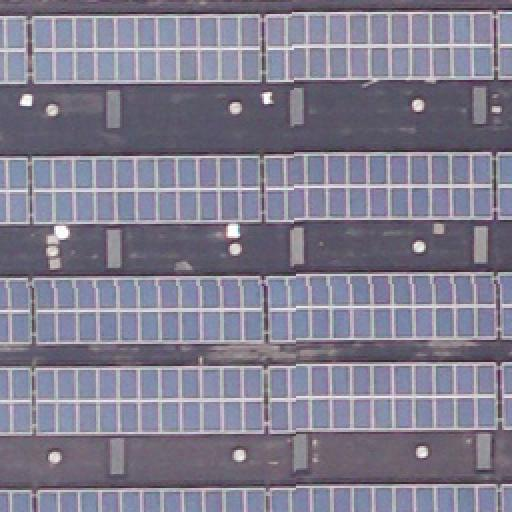solar-panel: (32, 273, 264, 343), (33, 365, 263, 435), (265, 273, 495, 343), (265, 13, 495, 83), (269, 364, 499, 432), (33, 156, 263, 224), (264, 156, 492, 224), (32, 16, 260, 84), (270, 484, 498, 512), (37, 488, 267, 512), (0, 368, 32, 436), (0, 279, 32, 345), (0, 18, 26, 86), (0, 159, 26, 225), (496, 156, 512, 220), (497, 270, 511, 338), (497, 15, 511, 81), (0, 489, 32, 511), (504, 365, 512, 427), (500, 484, 512, 512)
